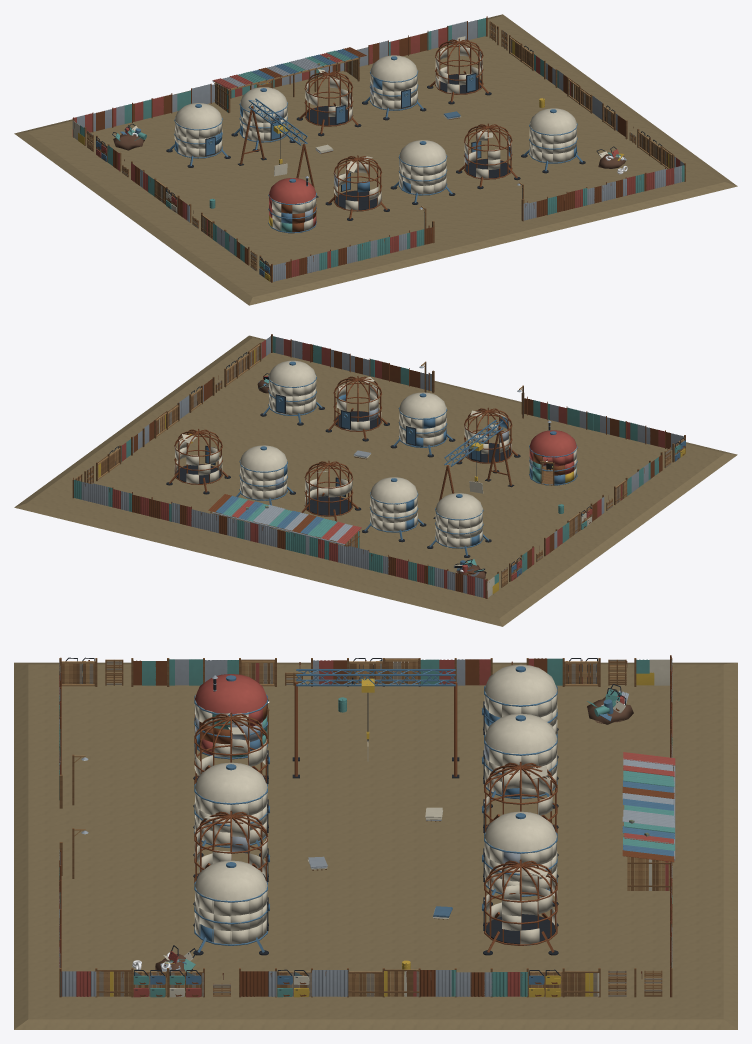
The model's file is capsule_scrapyard.glb.
The picture shows the model from 3 angles, top to bottom: view 1: azimuth 30°, elevation 25°; view 2: azimuth 150°, elevation 25°; view 3: azimuth 270°, elevation 25°; orthographic projection. The views are drawn at different scales.
Parts seen in each view (by area): view 1: capsule_scrapyard.001; view 2: capsule_scrapyard.001; view 3: capsule_scrapyard.001.
Boxes of the visible parts, x1,y1,x2,y2 form: capsule_scrapyard.001: (14,14,737,305); capsule_scrapyard.001: (14,334,737,626); capsule_scrapyard.001: (14,655,737,1029).
Size of what is drawn, in the model's own units: 60 by 7.75 by 50.
57 materials, 55 textured.
